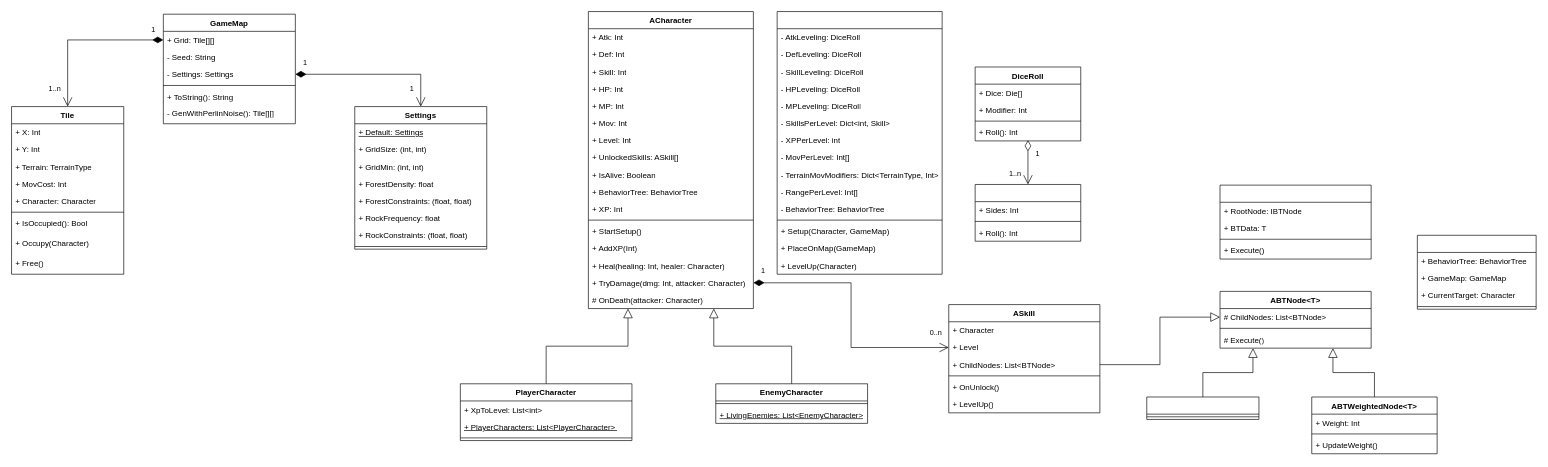
The diagram is 1548 pixels wide and 467 high, and some of its shapes have lost their labels. Here are the shapes that lost their labels. From the top down, the box of each, then its label:
(776, 11, 942, 274): ICharacterClassDelegate
(974, 184, 1081, 241): Die
(1219, 184, 1371, 259): BehaviorTree<T>
(1417, 235, 1536, 309): BTData
(1146, 396, 1259, 419): ABTSelectorNode<T>
